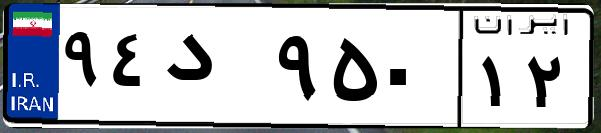0: (385, 28, 445, 110)
1: (475, 38, 525, 113)
2: (525, 38, 570, 115)
4: (110, 28, 158, 98)
5: (330, 28, 385, 110)
9: (270, 28, 330, 110), (57, 26, 110, 100)
د: (158, 20, 270, 120)
